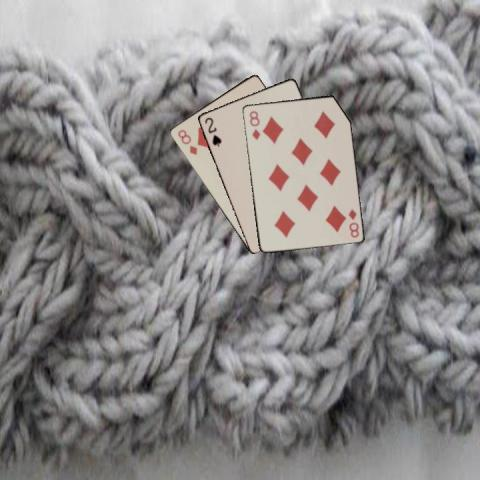2s: (201, 114, 223, 148)
8d: (174, 126, 198, 156), (246, 108, 261, 141), (345, 206, 360, 239)
